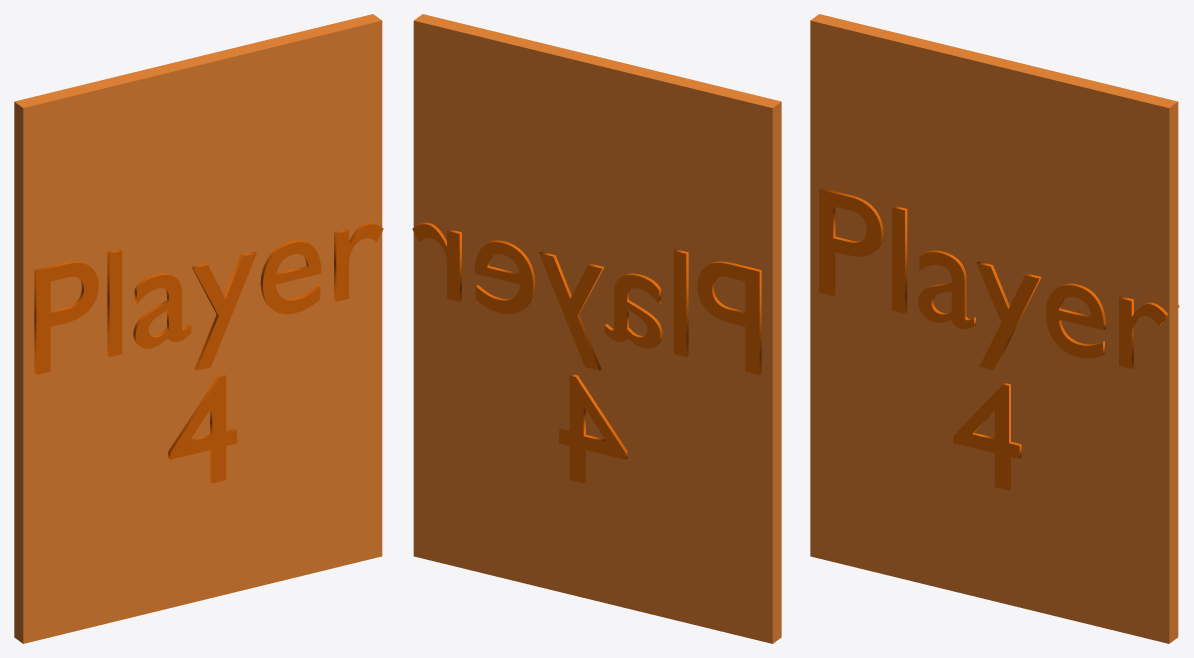
Rendered from PlayerFour.fbx.
3 views of the same model, side by side, from view 1: azimuth 30°, elevation 25°; view 2: azimuth 150°, elevation 25°; view 3: azimuth 330°, elevation 25° (orthographic).
Parts seen in each view (by area): view 1: PlayerFour; view 2: PlayerFour; view 3: PlayerFour.
Boxes of the visible parts, x1,y1,x2,y2 form: PlayerFour: (14,14,383,643); PlayerFour: (412,14,781,643); PlayerFour: (810,14,1179,643).
Bounding box in the file's own units: 11.47 × 16.37 × 0.7402.
